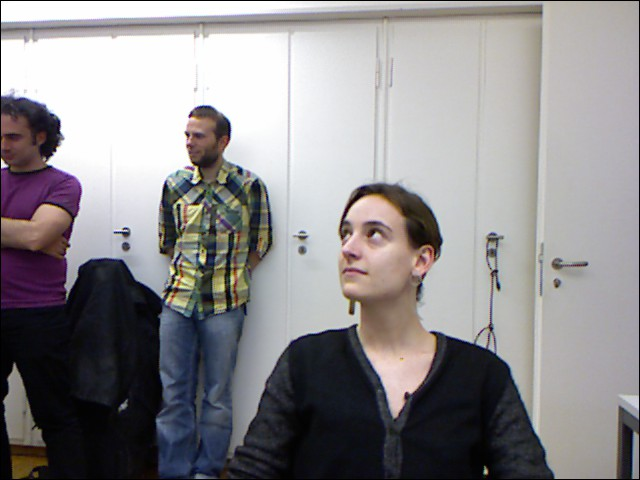deflection: (270, 177, 517, 402), (147, 106, 270, 217)
